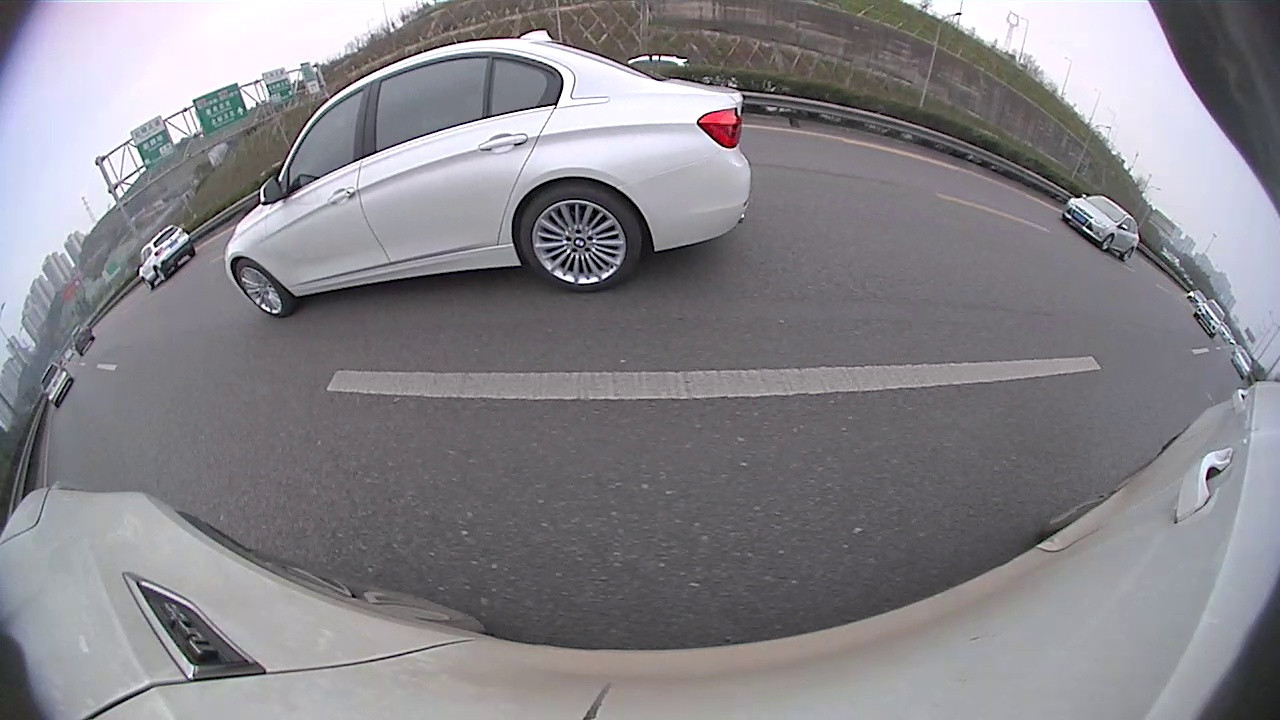car: (221, 26, 755, 324), (1058, 191, 1142, 265), (134, 220, 198, 292), (37, 360, 77, 411), (1191, 296, 1228, 339), (67, 320, 98, 358), (1229, 346, 1255, 380)
front: (234, 258, 289, 319), (1100, 233, 1114, 252), (142, 277, 152, 290)
rear: (521, 194, 637, 293), (1120, 247, 1134, 263), (155, 267, 166, 282)
